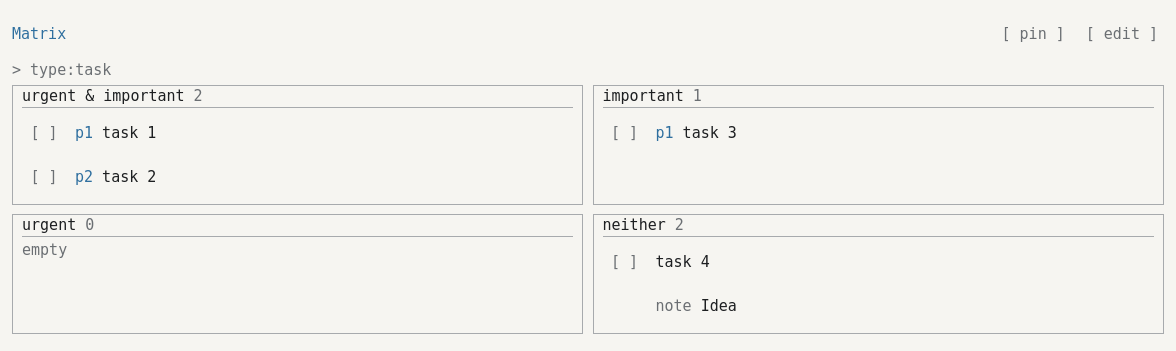
Test: Eisenhower › completing a task posts it and reloads the quadrants
This screenshot has width=1176, height=351.
Expected: the element "urgent & important" is shown, [12,84,584,204]
Click the button named "complete task 3".
click(624, 133)  # box [602,111,646,155]
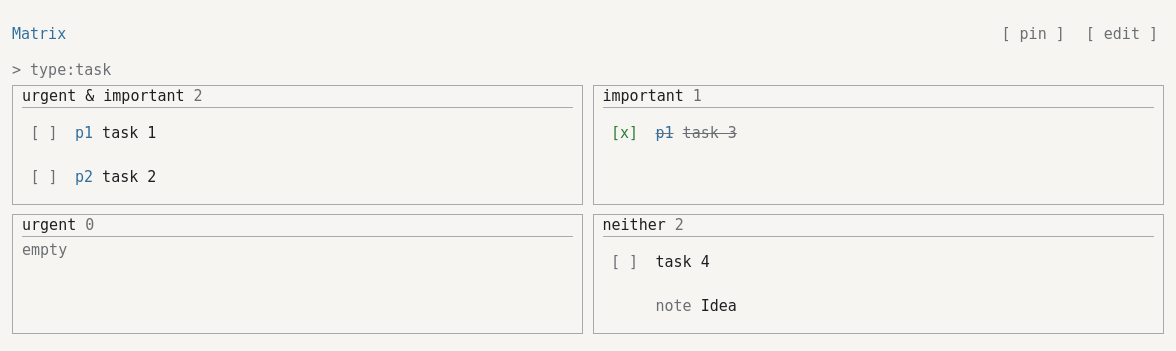
Now the button named "reopen task 3" is shown, box [602,111,646,155]
